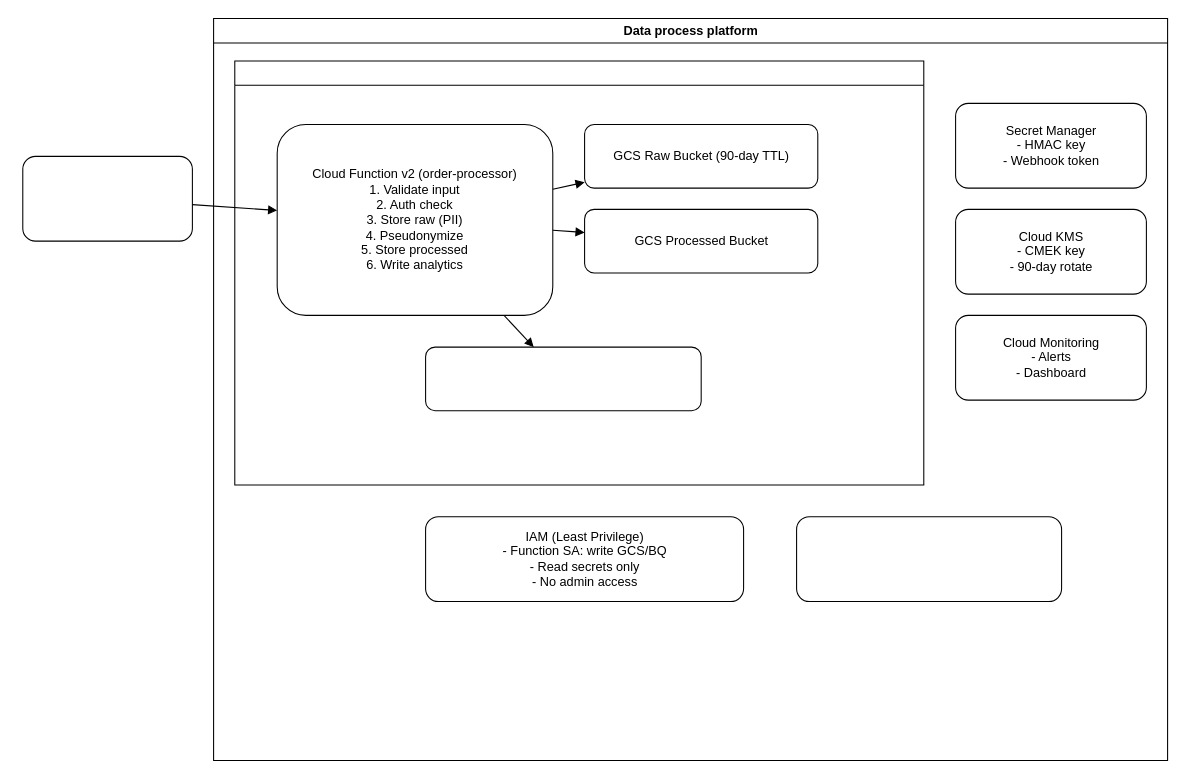
Image size: 1186x779. Some labels were removed from this diagram. Here are the shapes that lost their labels. From the top down, the box of each, then its label:
(22, 155, 192, 241): E-commerce Webhook (HTTPS POST + Bearer Token)
(234, 60, 924, 485): VPC (10.0.0.0/24)
(425, 346, 701, 411): BigQuery (anonymized_orders)
(796, 516, 1062, 602): Audit Logging - DATA_READ / DATA_WRITE - ADMIN_READ
